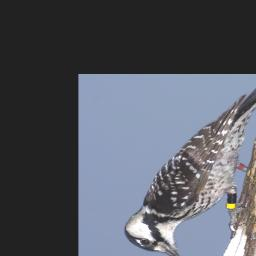Woodpecker: (122, 75, 256, 256)
